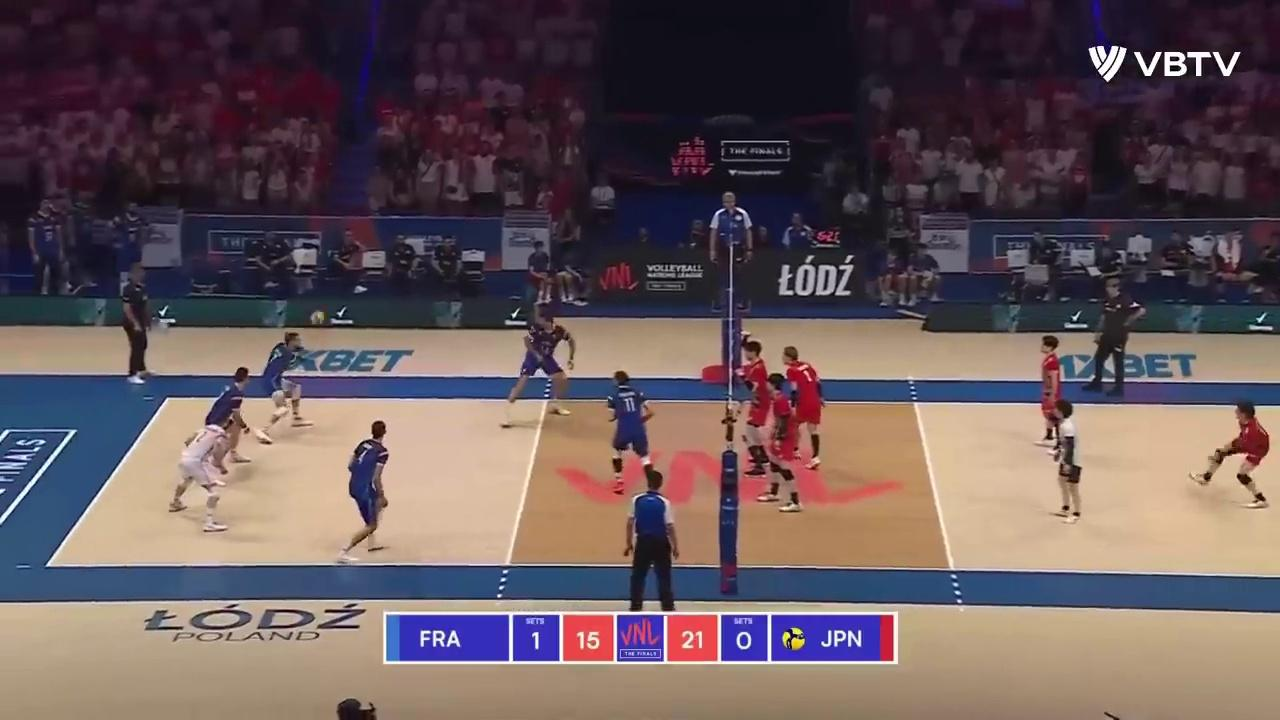ball: (311, 311, 327, 326)
